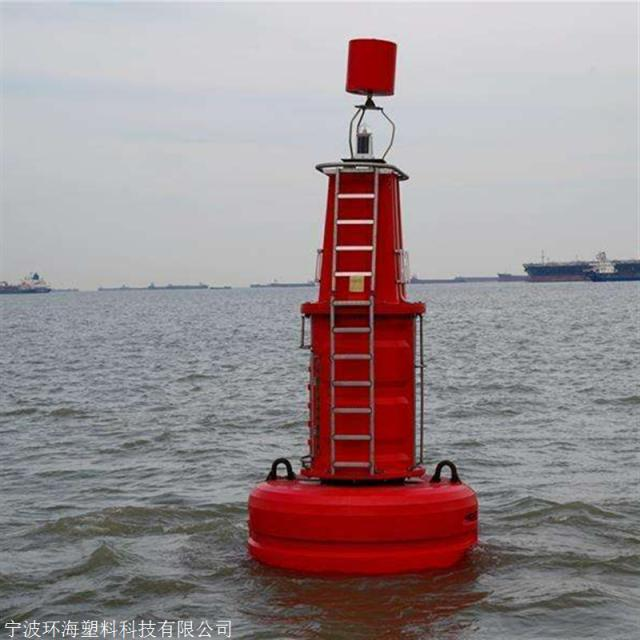buoy: (242, 26, 482, 572)
